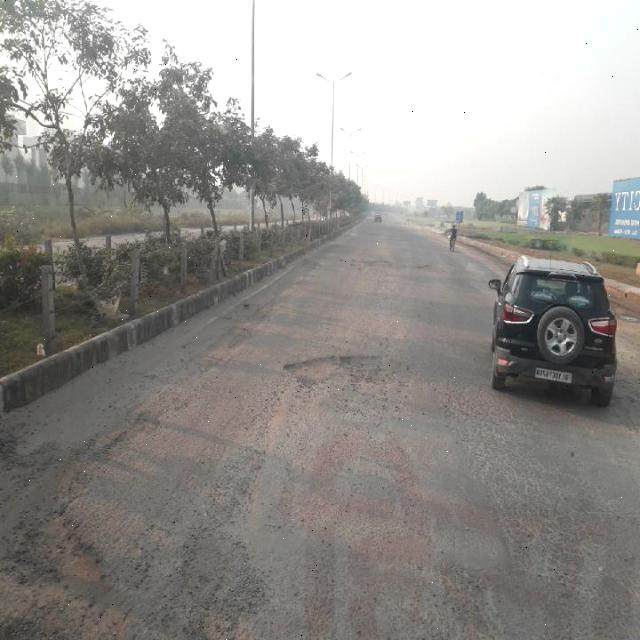D20: (419, 389, 632, 639)
D40: (8, 400, 177, 623), (280, 346, 420, 400), (348, 250, 436, 274)
